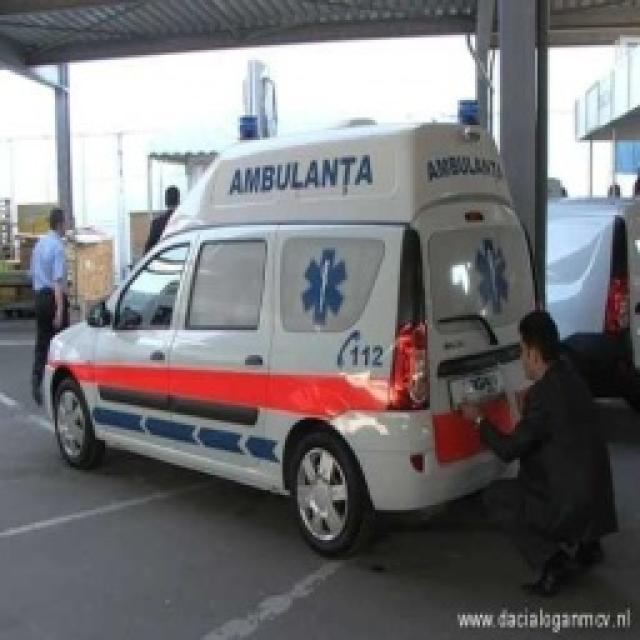emergency-vehicle: (46, 103, 540, 522)
